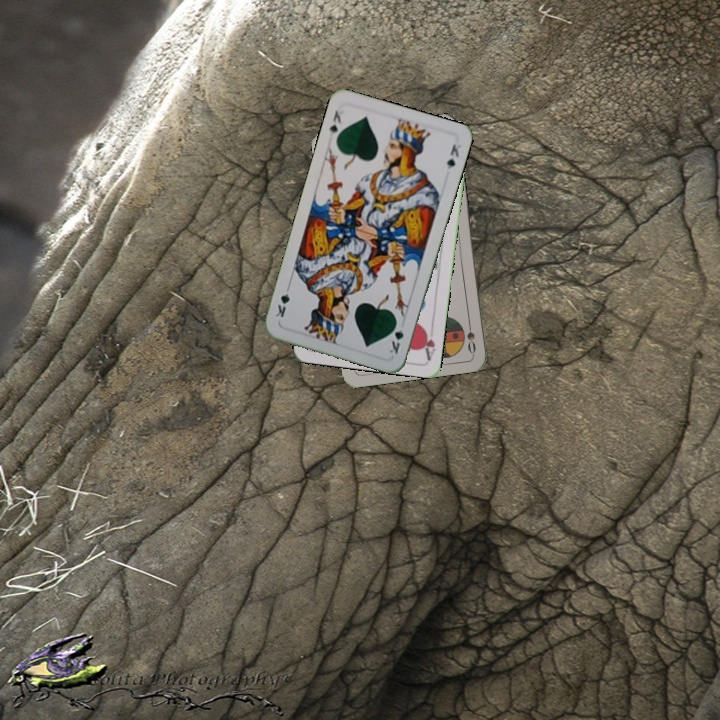GK: (384, 317, 406, 356), (325, 107, 344, 139)
HA: (418, 321, 438, 362)
SO: (463, 315, 478, 356)
